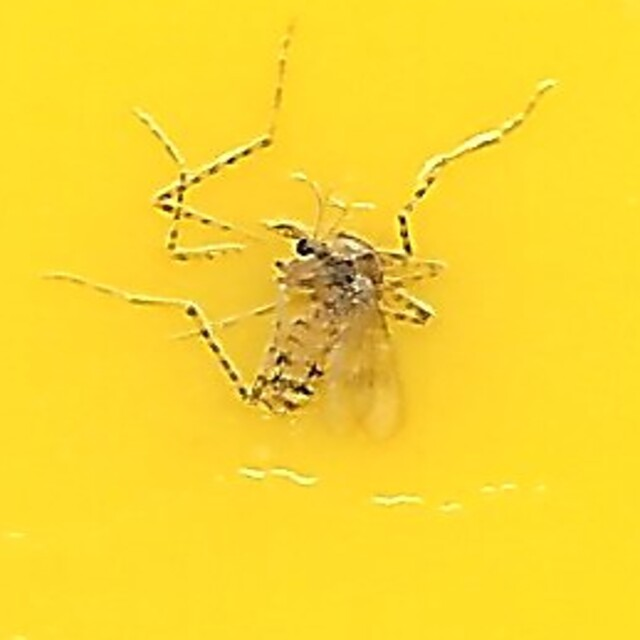Nematocera: (247, 213, 393, 427)
